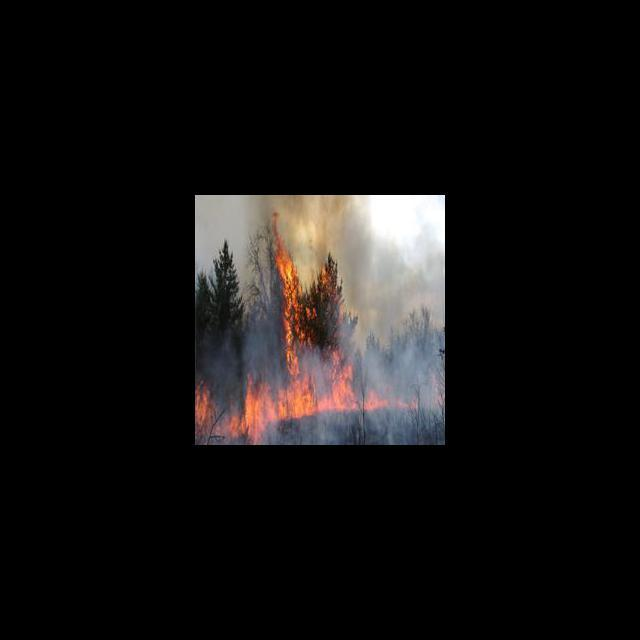Fire: (195, 359, 399, 442), (276, 216, 342, 418)
Smoke: (348, 212, 445, 338)
